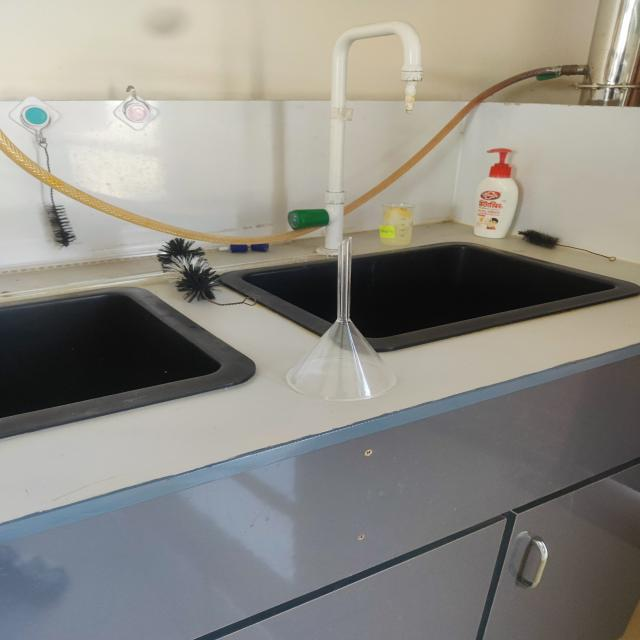Funnel: (269, 221, 420, 426)
